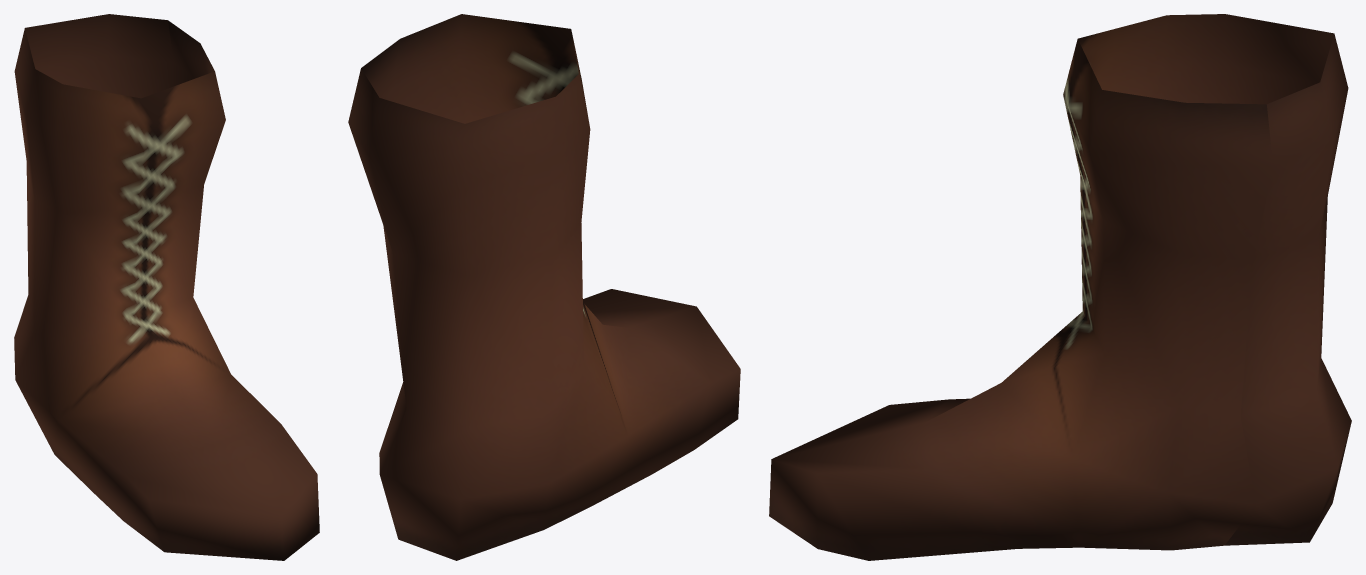
The model's file is LAS_1_Foot_R.obj.
3 views of the same model, side by side, from view 1: azimuth 30°, elevation 25°; view 2: azimuth 150°, elevation 25°; view 3: azimuth 270°, elevation 25° (orthographic). The views are drawn at different scales.
Parts seen in each view (by area): view 1: Knight.028_proxy741.obj.028; view 2: Knight.028_proxy741.obj.028; view 3: Knight.028_proxy741.obj.028.
Boxes of the visible parts, box(x1,y1,x2,y2) form: Knight.028_proxy741.obj.028: box(14, 14, 319, 560); Knight.028_proxy741.obj.028: box(348, 14, 740, 560); Knight.028_proxy741.obj.028: box(769, 14, 1351, 560).
Size of the model in its own units: 0.1521 by 0.3071 by 0.3442.
